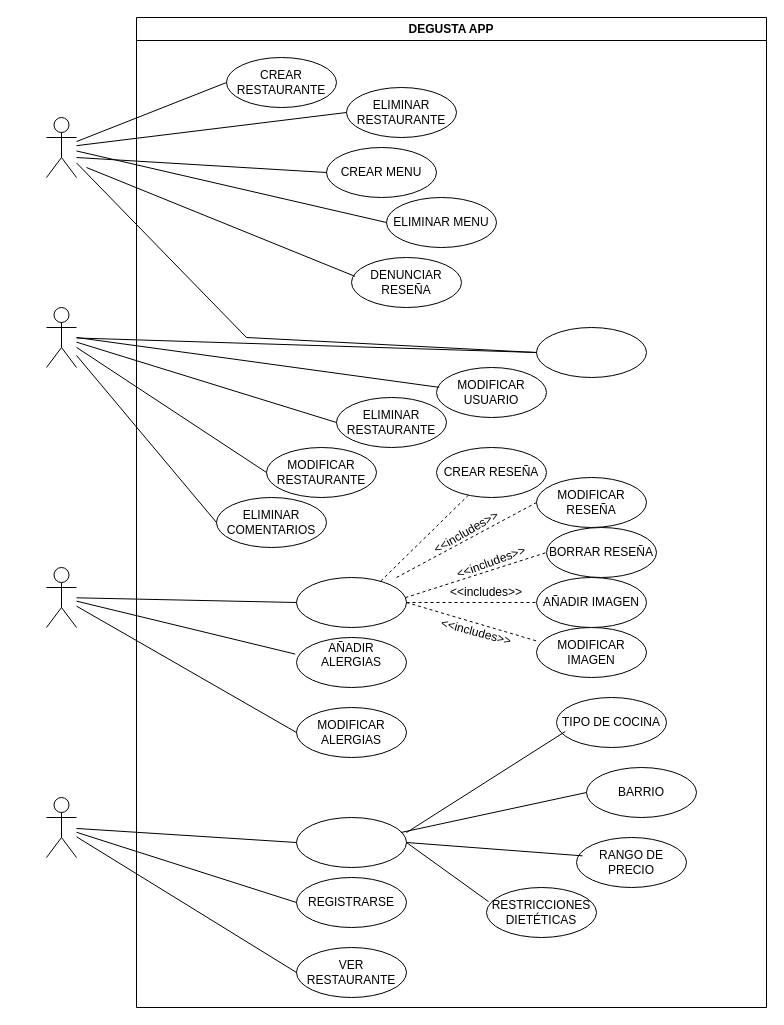
This 784x1025 diagram has some shape labels left out. The shapes that lost their labels are listed below. From the top down, each one's box as (x1, y1, x2, y2) in pixels, then its label:
(46, 116, 76, 178): RESTAURANTE
(46, 306, 76, 368): ADMIN
(536, 326, 646, 378): INICIAR SESIÓN
(46, 566, 76, 628): USUARIO REGISTRADO
(296, 576, 406, 628): GESTIONAR RESEÑA
(46, 796, 76, 858): USUARIO NO REGISTRADO
(296, 816, 406, 868): BUSCAR RESTAURANTE
